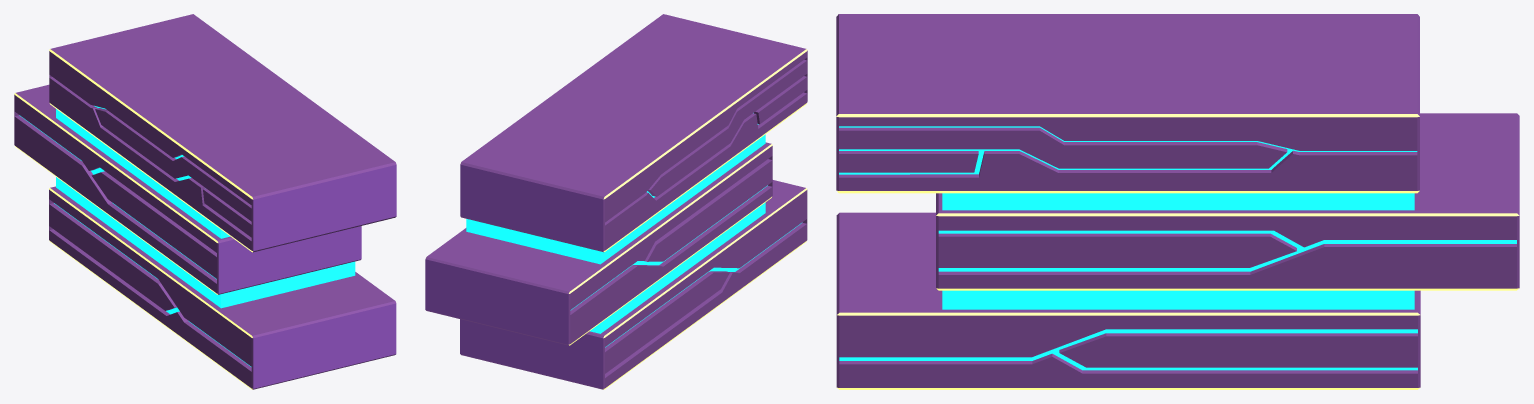
File: dresser_tier20.fbx
3 renders of one model, left to right at view 1: azimuth 30°, elevation 25°; view 2: azimuth 150°, elevation 25°; view 3: azimuth 270°, elevation 25°, orthographic. The views are drawn at different scales.
Parts seen in each view (by area): view 1: Cube.006, Cube.002, Cube.005, Cube.001; view 2: Cube.006, Cube.005, Cube.002, Cube.001; view 3: Cube.006, Cube.002, Cube.005, Cube.001.
Part boxes in pixels (x1,y1,x2,y2): Cube.006: (49,14,396,252); Cube.002: (49,186,396,389); Cube.005: (14,84,361,294); Cube.001: (56,109,355,308); Cube.006: (460,14,807,252); Cube.005: (425,142,772,345); Cube.002: (460,180,807,389); Cube.001: (466,134,765,333); Cube.006: (836,14,1419,193); Cube.002: (836,212,1420,389); Cube.005: (936,113,1519,290); Cube.001: (942,193,1414,309).
Bounding box in the file's own units: 88.52 × 113 × 253.
